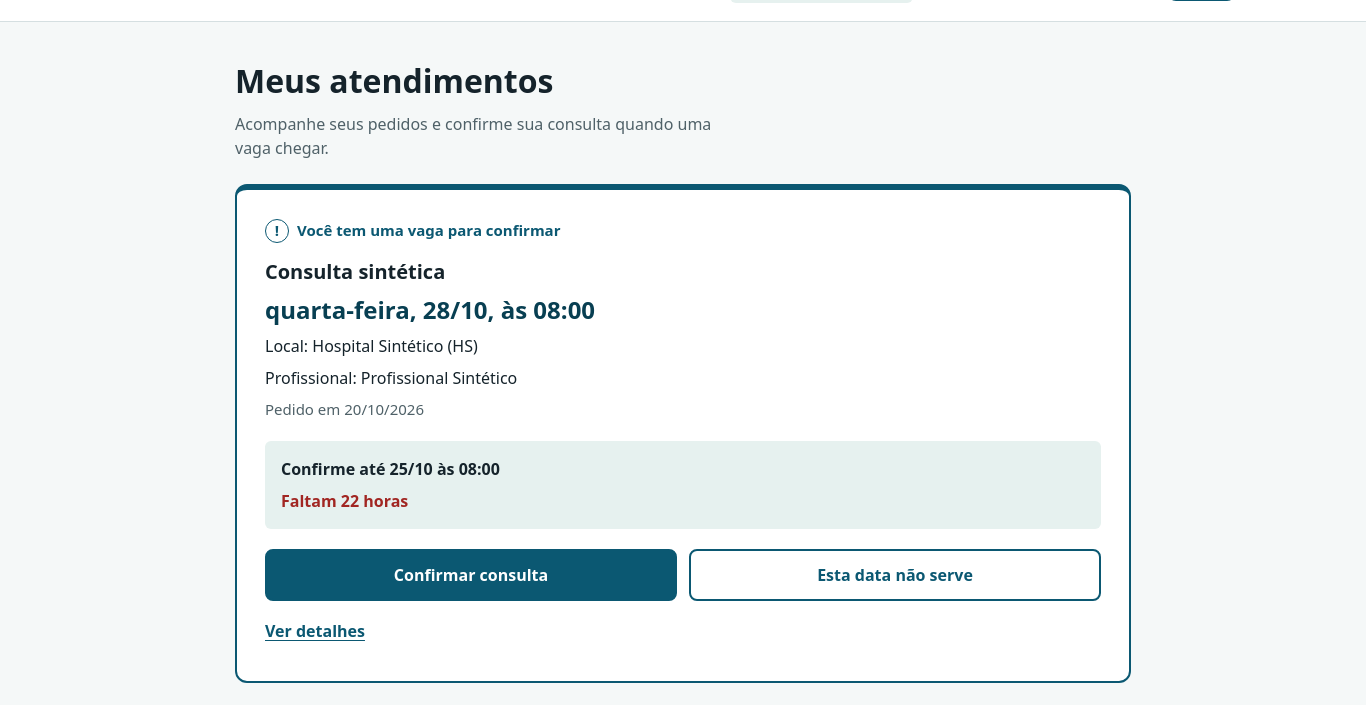
Test case: PacienteLayout — sessão, avisos e navegação › B2: foco/reconexão preserva diálogo e escrita em andamento (enviando: true)
Expected: the heading "Meus atendimentos" is shown, left=235, top=59, right=554, bottom=102
Click the button "Confirmar consulta". click: click(471, 575)
box: left=265, top=549, right=677, bottom=601
(page scrolled)
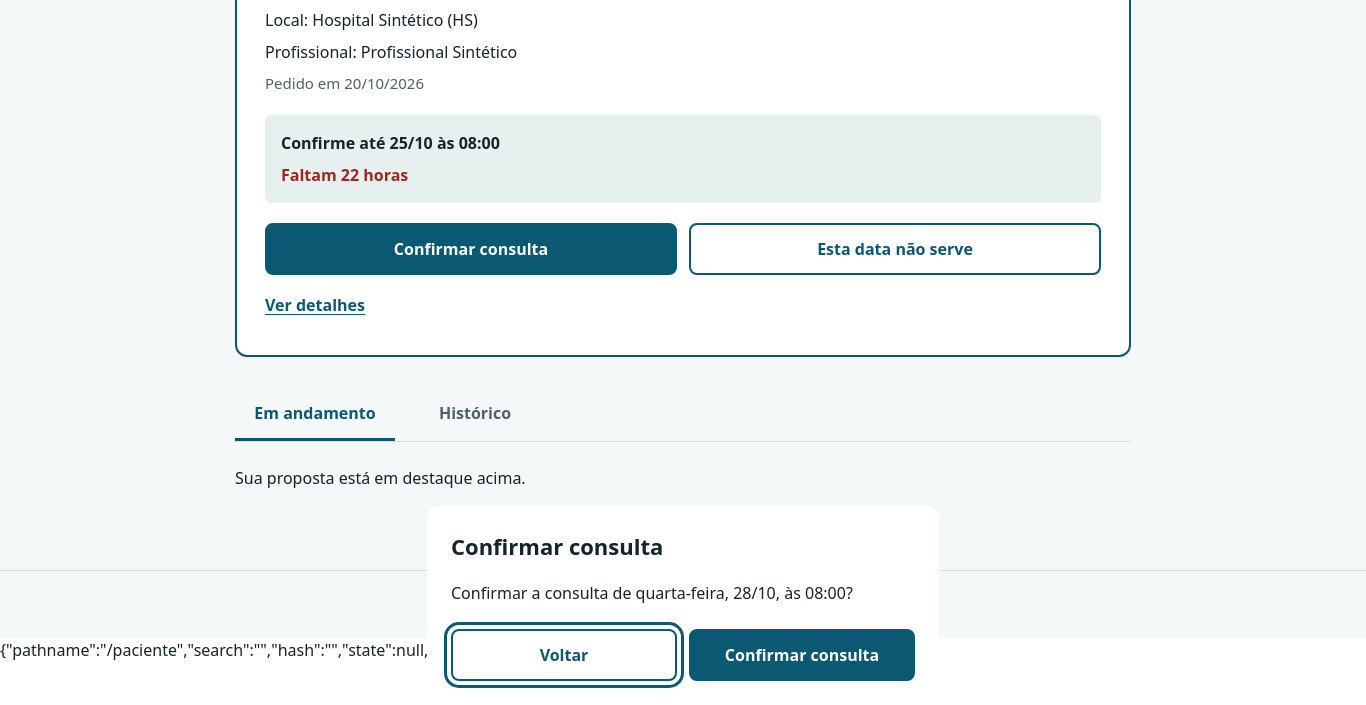
Click the 2nd button "Confirmar consulta". click: click(802, 655)
box: left=689, top=629, right=915, bottom=681
(page scrolled)
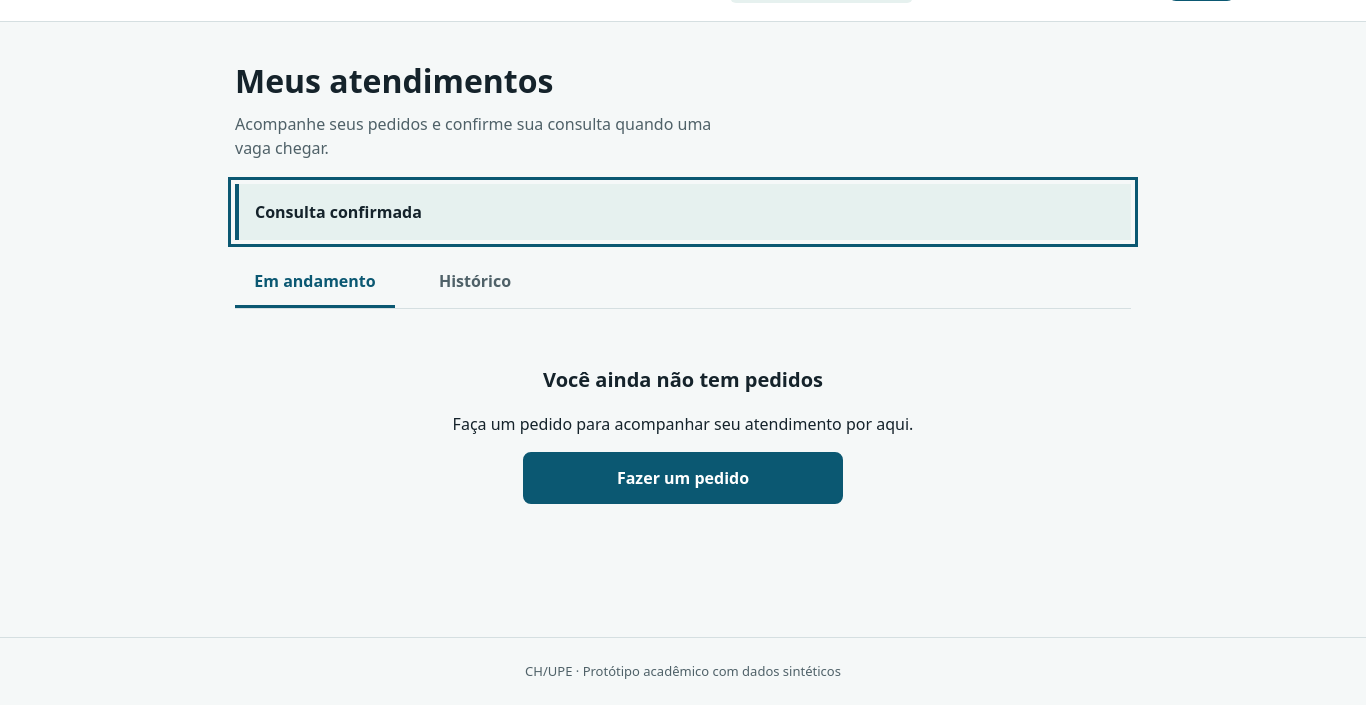
Expected: the heading "Meus atendimentos" is shown, left=235, top=59, right=554, bottom=102
Expected: the text "Consulta confirmada" is shown, left=235, top=184, right=1131, bottom=240
